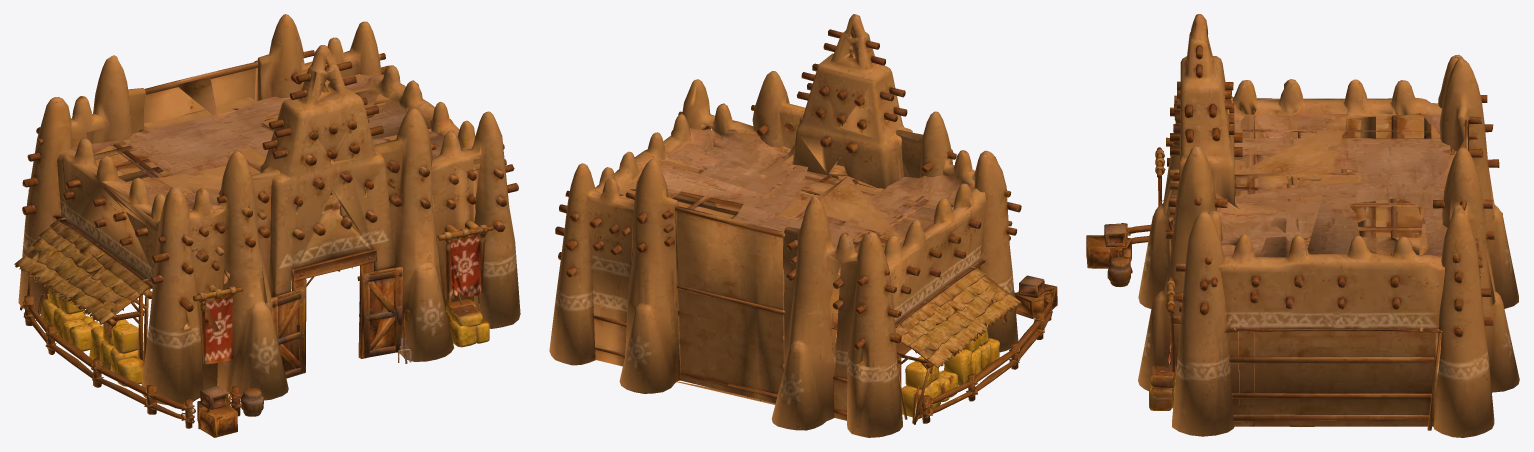
3 views of the same model, side by side, from view 1: azimuth 30°, elevation 25°; view 2: azimuth 150°, elevation 25°; view 3: azimuth 270°, elevation 25° (orthographic). The views are drawn at different scales.
Parts seen in each view (by area): view 1: Mesh_0; view 2: Mesh_0; view 3: Mesh_0.
Part boxes in pixels (left/top/right/bottom): Mesh_0: left=14, top=14, right=520, bottom=437; Mesh_0: left=549, top=14, right=1057, bottom=437; Mesh_0: left=1086, top=14, right=1519, bottom=437.
Bounding box in the file's own units: 12 × 9 × 10.83.
Materials: 1 (1 with a texture image).
